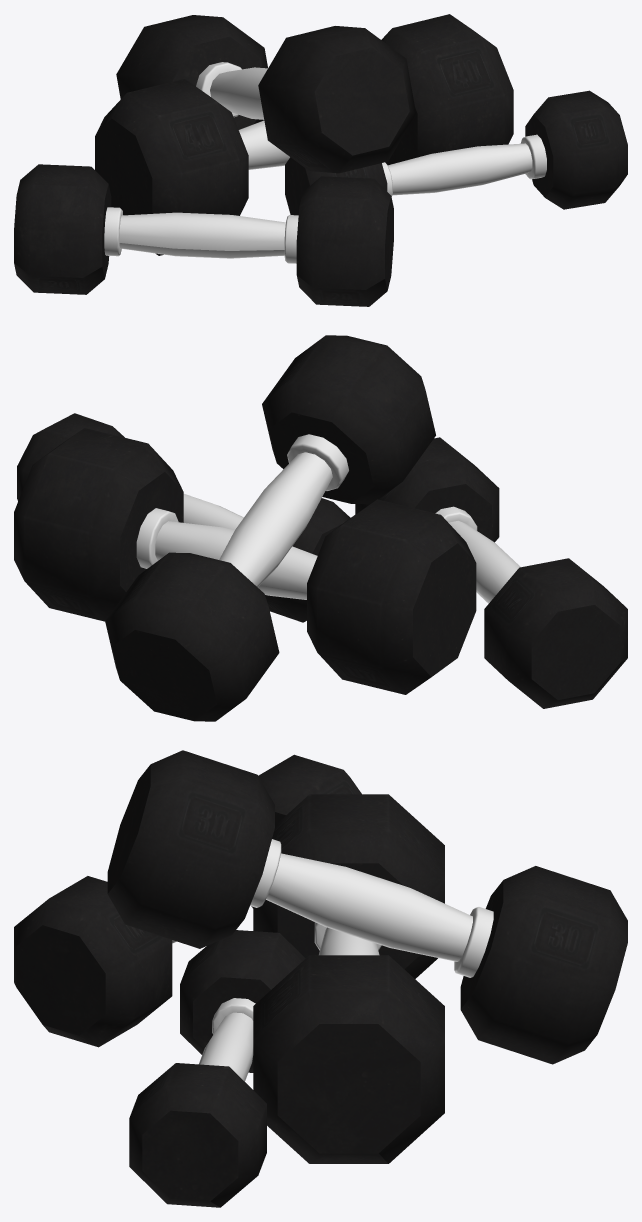
File: gym-weights.glb
3 views of the same model, one above another, from view 1: azimuth 30°, elevation 25°; view 2: azimuth 150°, elevation 25°; view 3: azimuth 270°, elevation 25° (orthographic). The views are drawn at different scales.
Parts seen in each view (by area): view 1: GymWeights; view 2: GymWeights; view 3: GymWeights.
Boxes of the visible parts, x1,y1,x2,y2 form: GymWeights: (14, 14, 627, 306); GymWeights: (14, 335, 627, 721); GymWeights: (14, 750, 627, 1207).
Bounding box in the file's own units: 93.56 × 36.15 × 70.66.
1 material, 1 textured.
